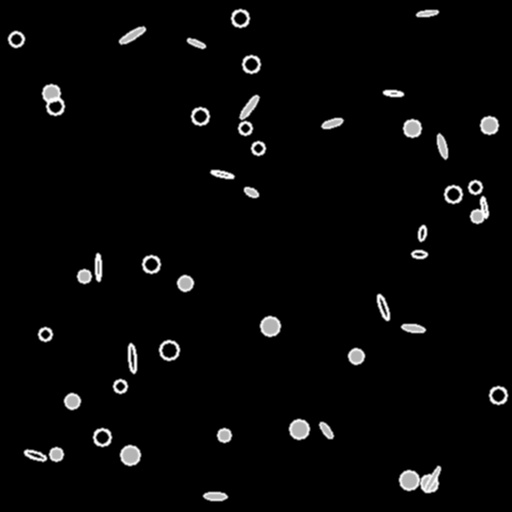pseudomonas: (238, 94, 260, 120), (118, 25, 146, 45), (423, 466, 441, 492), (375, 293, 391, 321), (435, 133, 449, 158), (23, 448, 47, 462), (318, 420, 334, 440), (127, 344, 137, 372), (321, 117, 343, 129), (186, 37, 206, 49), (402, 323, 424, 333), (211, 169, 233, 179), (243, 186, 259, 198), (95, 253, 101, 281), (417, 225, 427, 241), (480, 197, 488, 217), (417, 9, 437, 17), (204, 493, 226, 499), (411, 250, 427, 258), (384, 90, 402, 96)
synechocystis: (290, 420, 308, 438), (160, 341, 178, 359), (400, 471, 418, 489), (121, 446, 139, 464), (261, 317, 279, 335), (404, 120, 420, 136), (481, 117, 497, 133), (94, 429, 110, 445), (445, 186, 461, 202), (232, 10, 248, 26), (421, 475, 437, 491), (143, 256, 159, 272), (43, 85, 59, 101), (192, 108, 208, 124), (47, 98, 63, 114), (243, 56, 259, 72), (490, 387, 506, 403), (178, 276, 192, 290), (65, 394, 79, 408), (9, 32, 23, 46), (349, 349, 363, 363), (114, 380, 126, 392), (78, 270, 90, 282), (252, 142, 264, 154), (471, 210, 483, 222), (39, 328, 51, 340), (50, 448, 62, 460), (218, 429, 230, 441), (469, 181, 481, 193), (239, 122, 251, 134)
